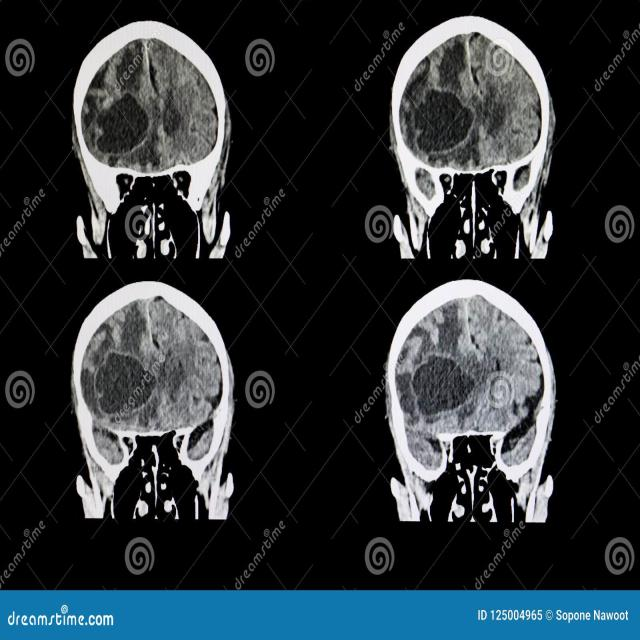Tumor: (94, 354, 158, 415), (415, 356, 476, 420), (415, 92, 469, 151), (95, 102, 146, 152)
